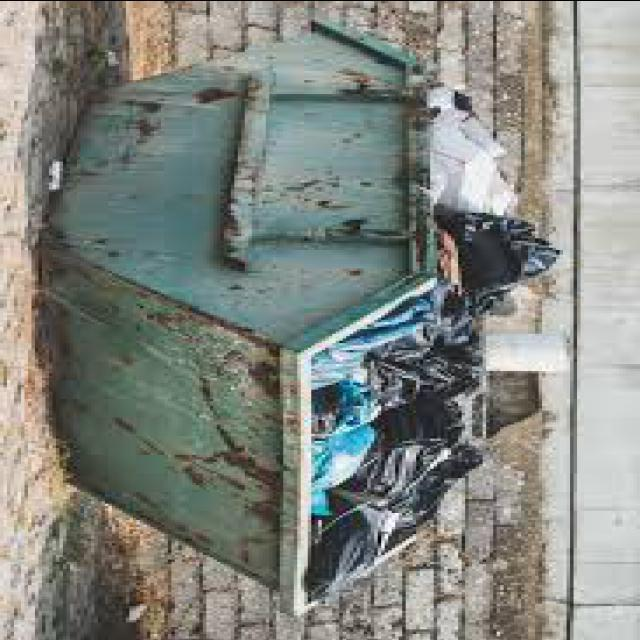Trashbag: (308, 442, 491, 595), (373, 346, 485, 454), (450, 208, 570, 291)
